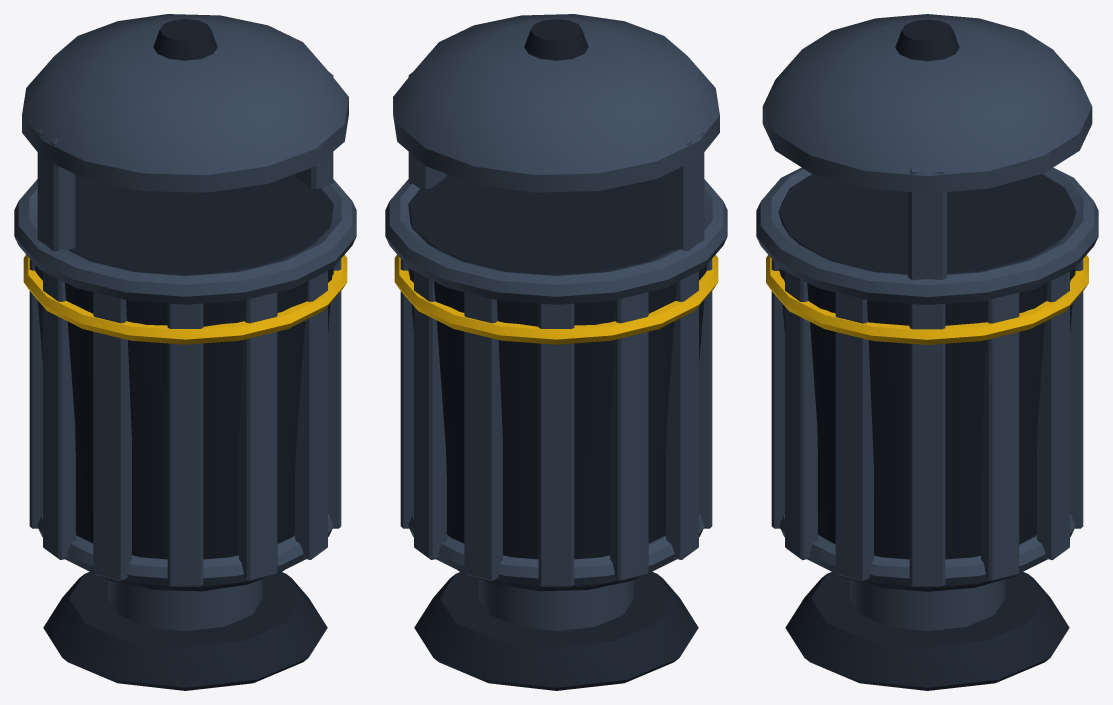
File: papelera_urbana.glb
3 views of the same model, side by side, from view 1: azimuth 30°, elevation 25°; view 2: azimuth 150°, elevation 25°; view 3: azimuth 270°, elevation 25° (orthographic).
Parts seen in each view (by area): view 1: Papelera_Urbana; view 2: Papelera_Urbana; view 3: Papelera_Urbana.
Boxes of the visible parts, x1,y1,x2,y2 form: Papelera_Urbana: (14, 14, 356, 690); Papelera_Urbana: (385, 14, 727, 690); Papelera_Urbana: (756, 14, 1098, 690).
Bounding box in the file's own units: 0.538 × 1.03 × 0.5298.
